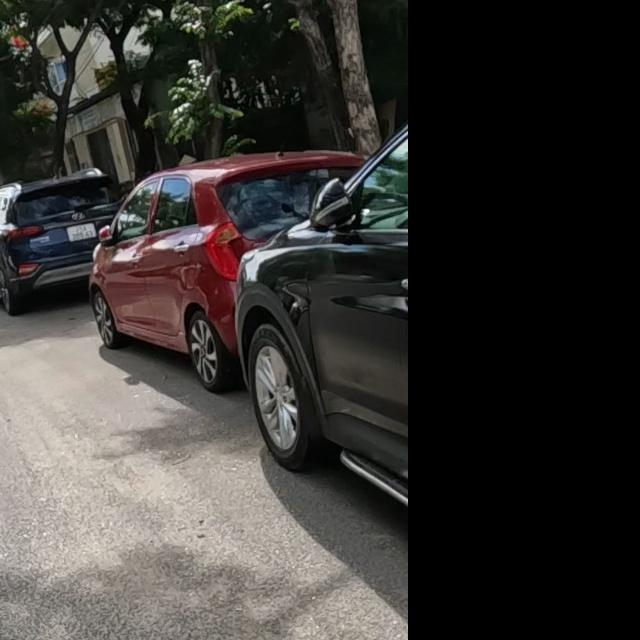license-plate: (65, 221, 97, 242)
